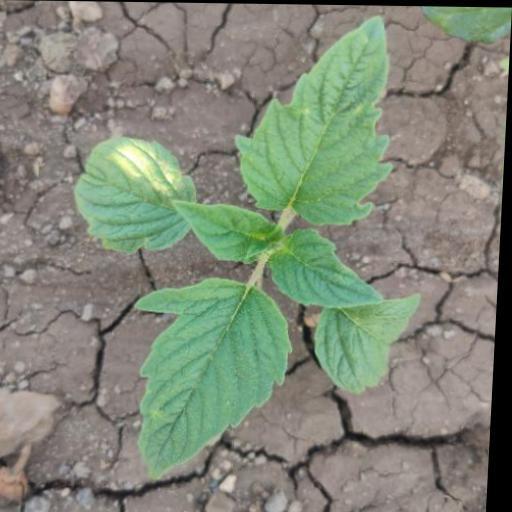crop: (60, 8, 441, 481)
